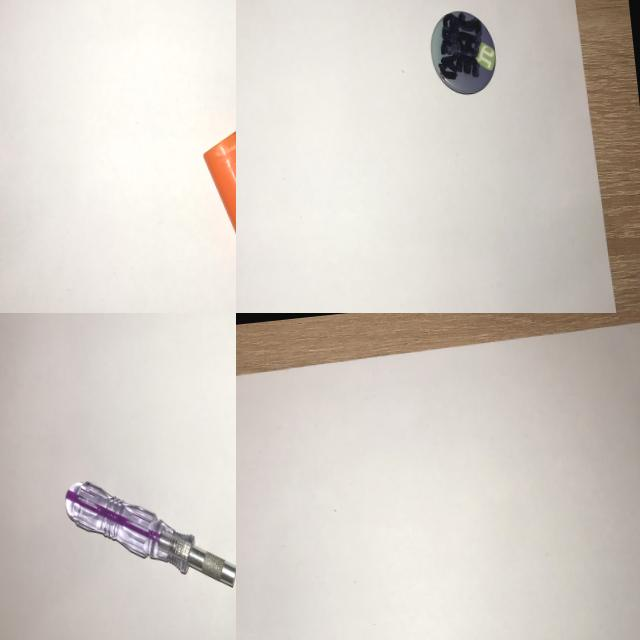icon: (420, 0, 503, 105)
lighter: (195, 112, 236, 313)
screwdriver: (56, 460, 236, 607)
